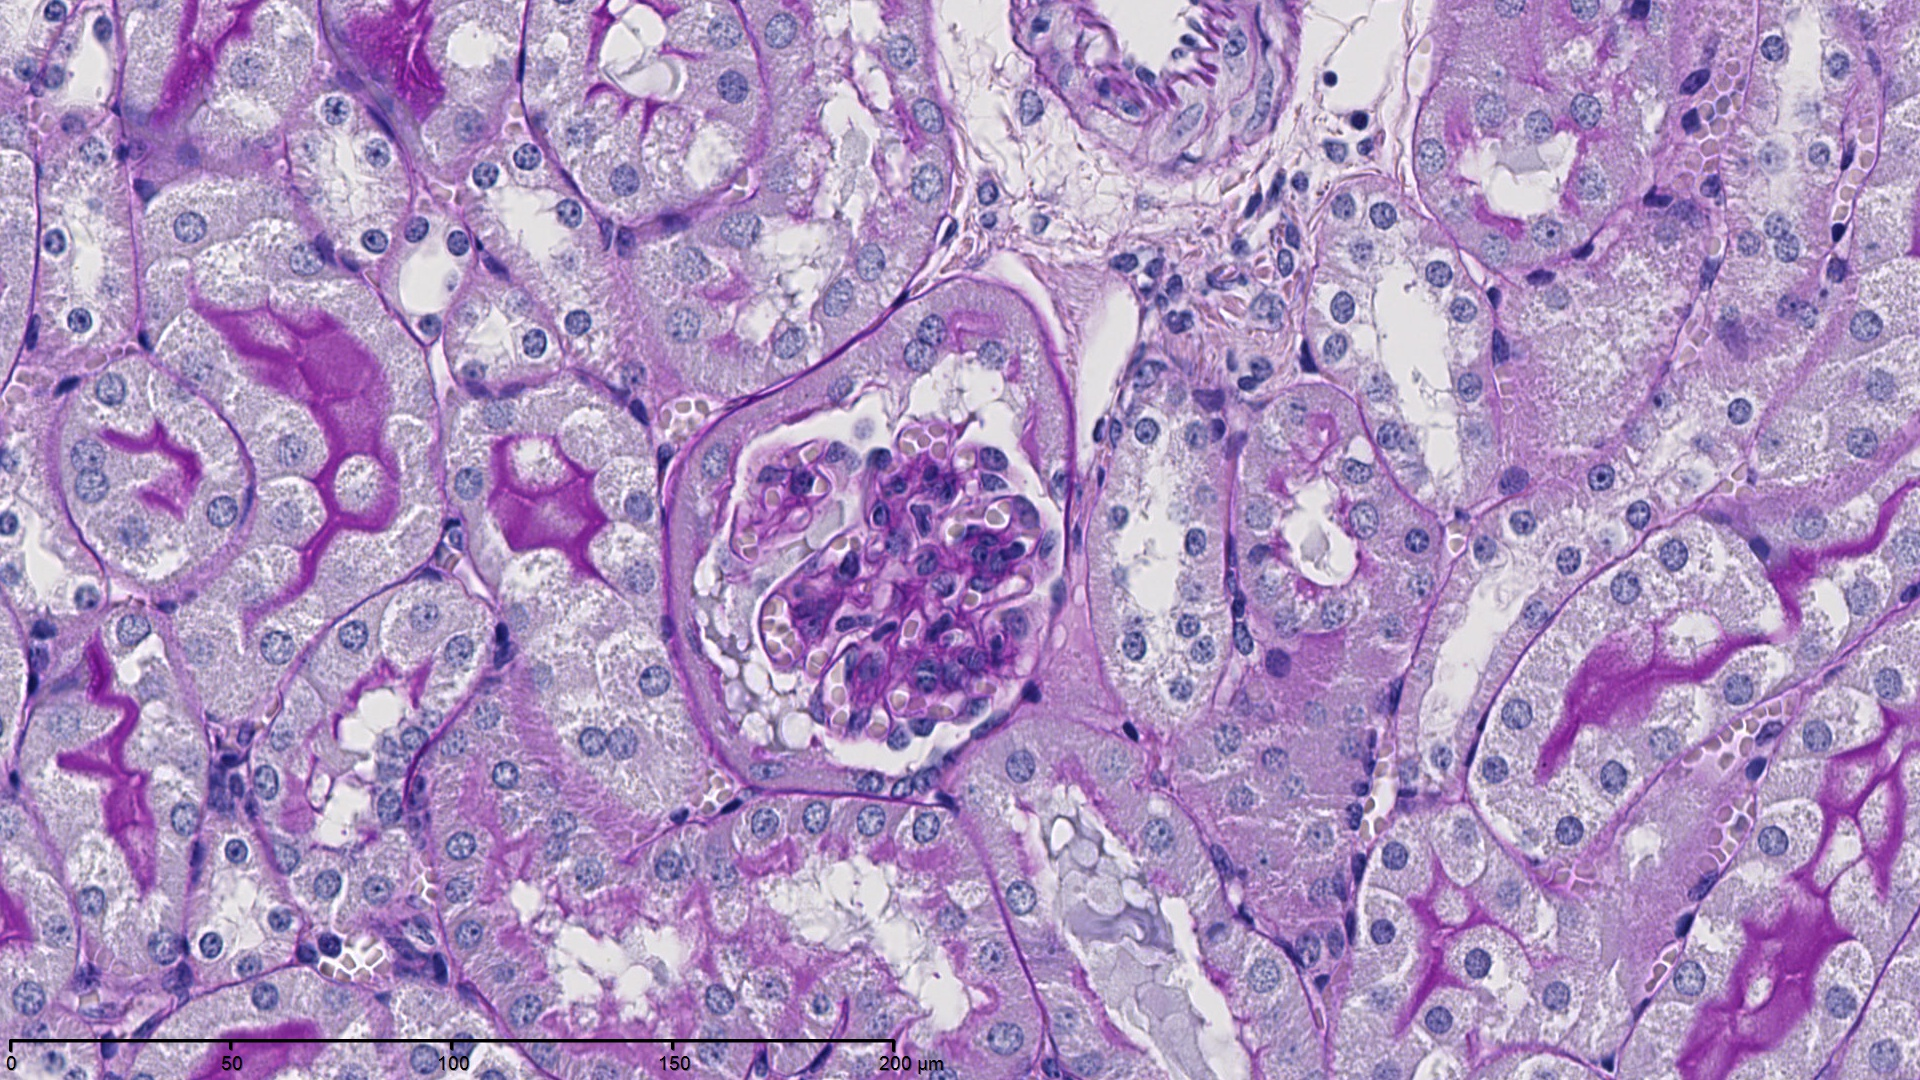Glomeruli: (694, 413, 1073, 753)
